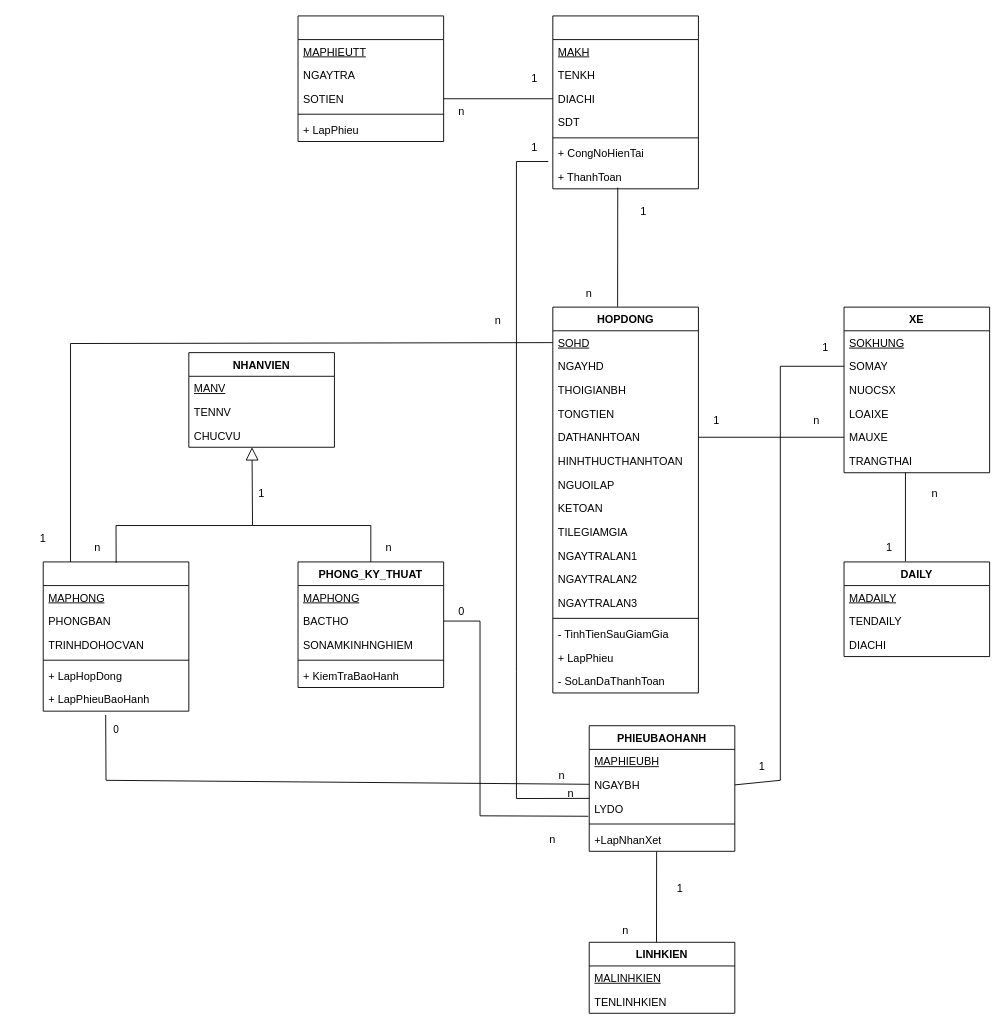
Some shapes in this 1006 by 1032 pixel diagram are drawn without their labels. The box of each missing label's shape, as (x1, y1, x2, y2) in pixels:
KHACHHANG: (552, 15, 698, 189)
PHIEUTHANHTOAN: (297, 15, 444, 142)
PHONG_HANH_CHANH: (42, 561, 189, 711)
